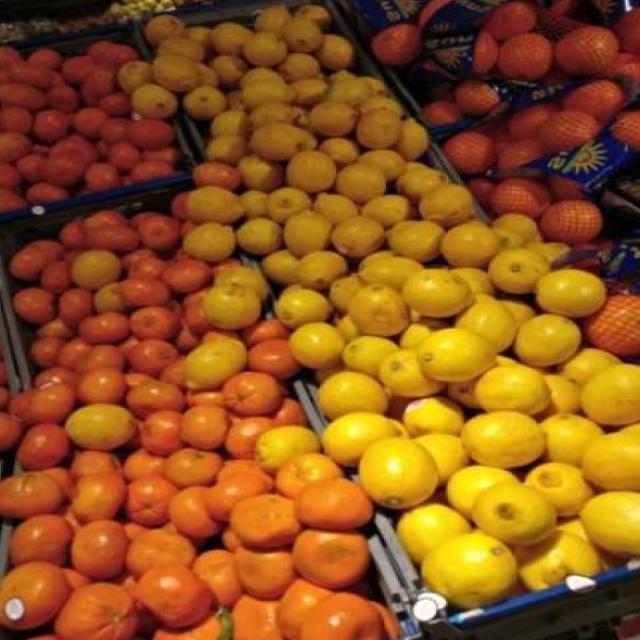Clementine: (130, 564, 204, 630), (63, 519, 129, 578), (55, 588, 127, 640), (225, 489, 289, 546), (155, 439, 225, 489), (135, 212, 179, 245)
